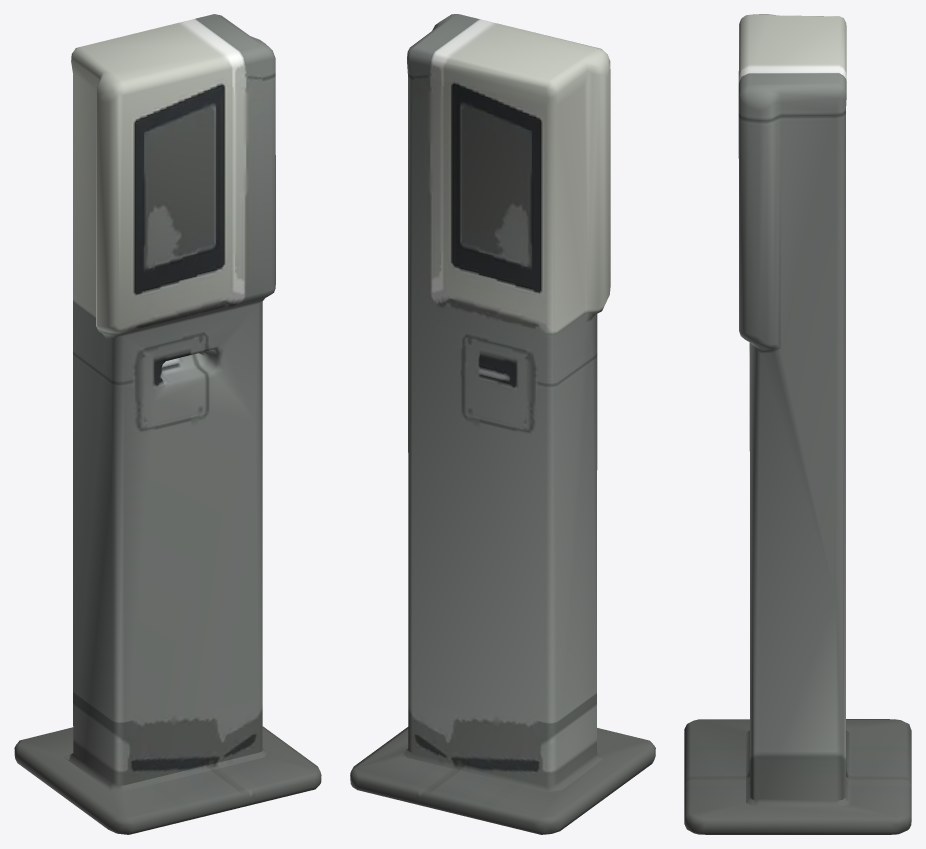
3 renders of one model, left to right at view 1: azimuth 30°, elevation 25°; view 2: azimuth 150°, elevation 25°; view 3: azimuth 270°, elevation 25°, orthographic.
Parts seen in each view (by area): view 1: Decor_pay_station_a; view 2: Decor_pay_station_a; view 3: Decor_pay_station_a.
Part boxes in pixels (left/top/right/bottom): Decor_pay_station_a: left=14, top=14, right=321, bottom=834; Decor_pay_station_a: left=350, top=14, right=655, bottom=834; Decor_pay_station_a: left=684, top=14, right=911, bottom=834.
Size of the model in its own units: 0.4526 by 1.5 by 0.4196.
Materials: 1 (1 with a texture image).
